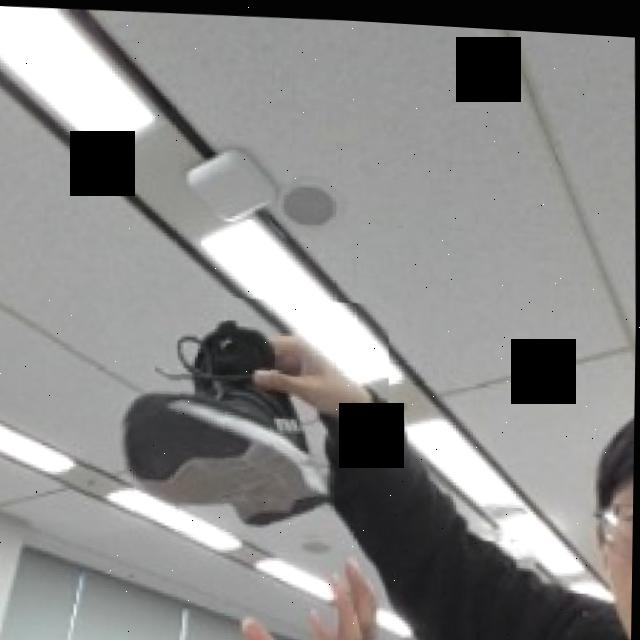shoe: (66, 284, 394, 547)
